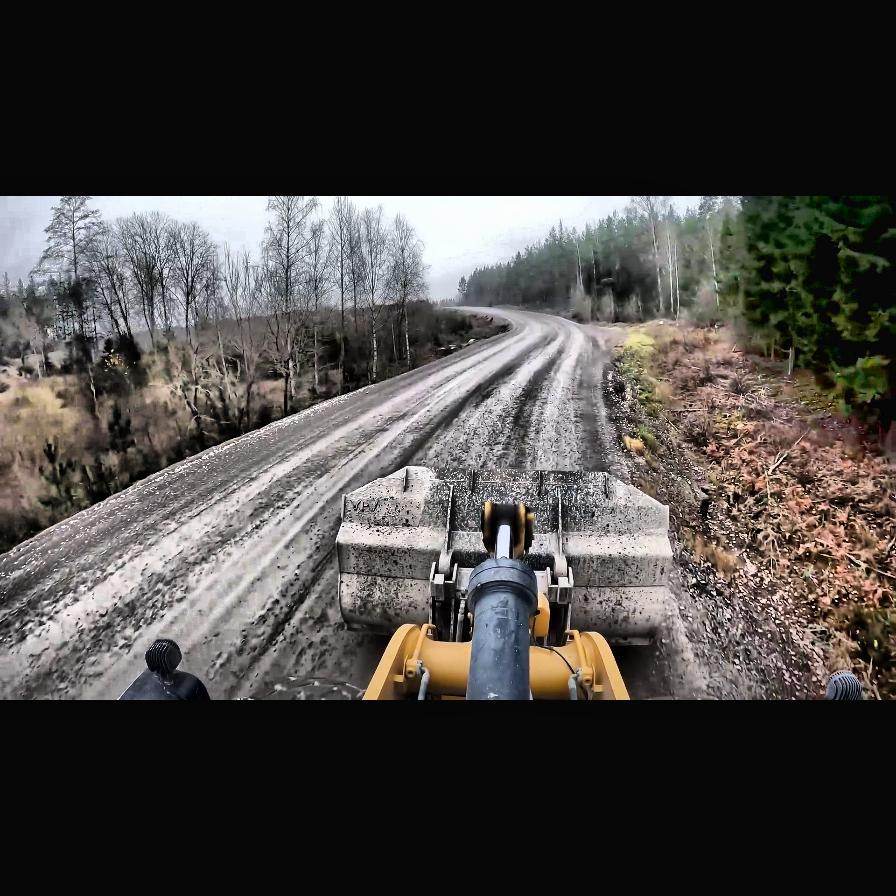anchor: (483, 500, 533, 559)
